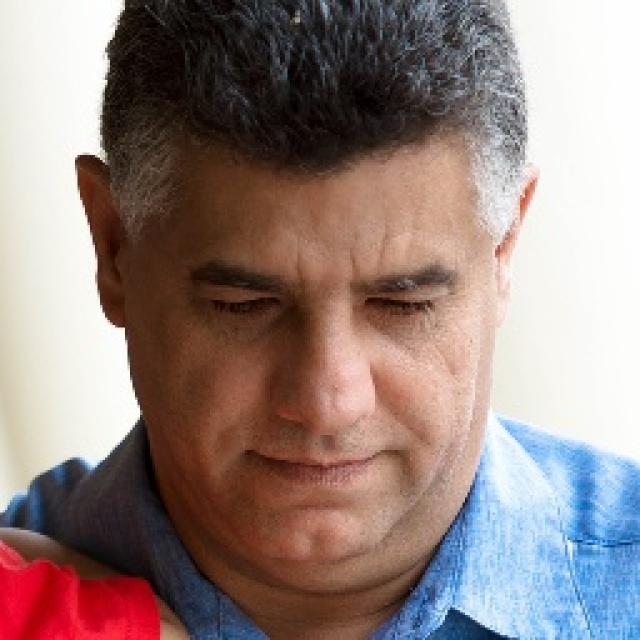earlobe: (97, 270, 127, 330)
eye: (202, 294, 281, 317), (363, 290, 438, 314)
nose: (267, 406, 383, 478)
wholeear: (74, 153, 128, 328), (495, 162, 540, 326)
